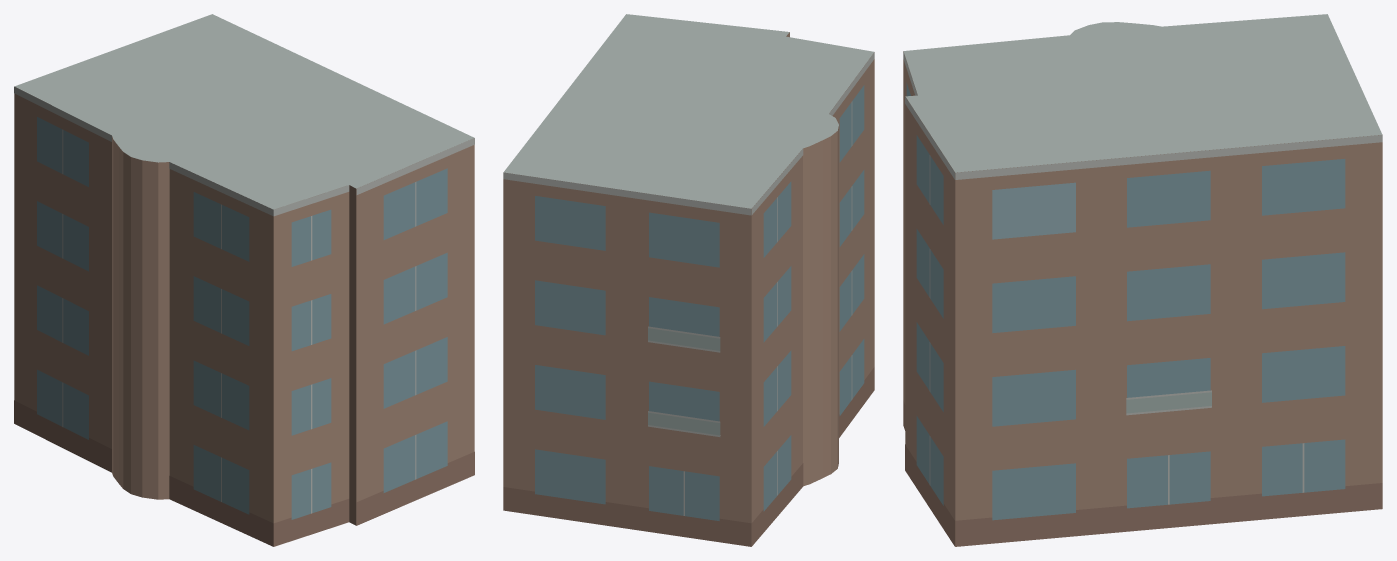
File: survey-upis-32705075.glb
The picture shows the model from 3 angles, left to right: view 1: azimuth 30°, elevation 25°; view 2: azimuth 150°, elevation 25°; view 3: azimuth 270°, elevation 25°; orthographic projection. The views are drawn at different scales.
Parts seen in each view (by area): view 1: survey-upis-32705075.tmp; view 2: survey-upis-32705075.tmp; view 3: survey-upis-32705075.tmp.
Part boxes in pixels (x1,y1,x2,y2): survey-upis-32705075.tmp: (14,14,474,546); survey-upis-32705075.tmp: (503,14,874,546); survey-upis-32705075.tmp: (903,14,1382,546).
Bounding box in the file's own units: 11.1 × 12.2 × 14.16.
